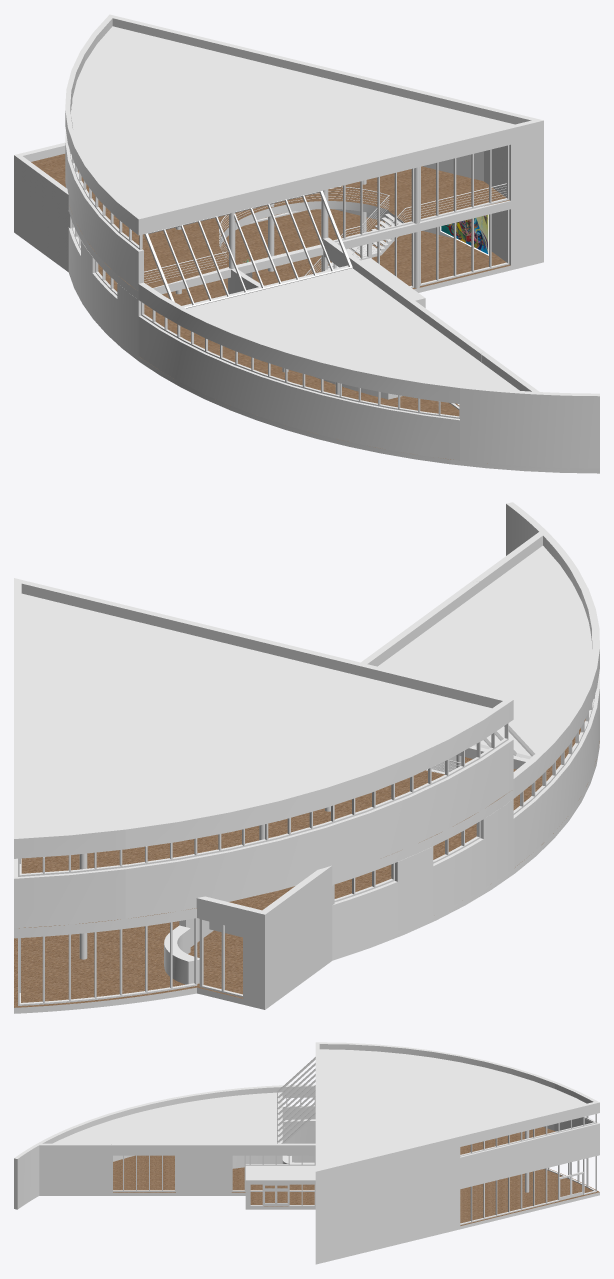
The model's file is museum.glb.
3 renders of one model, top to bottom at view 1: azimuth 30°, elevation 25°; view 2: azimuth 150°, elevation 25°; view 3: azimuth 270°, elevation 25°, orthographic. The views are drawn at different scales.
Parts seen in each view (by area): view 1: Walls_10, Floor_7, Chrome_8, Picture_3; view 2: Walls_10, Floor_7; view 3: Walls_10, Floor_7.
Part boxes in pixels (box(x1,y1,x2,y2)): Walls_10: box(14, 14, 599, 473); Floor_7: box(31, 154, 510, 463); Chrome_8: box(144, 183, 506, 283); Picture_3: box(441, 215, 488, 253); Walls_10: box(14, 502, 599, 1013); Floor_7: box(14, 719, 599, 1007); Walls_10: box(14, 1042, 599, 1264); Floor_7: box(113, 1127, 599, 1225).
Bounding box in the file's own units: 105 × 34.96 × 200.
8 materials, 5 textured.
